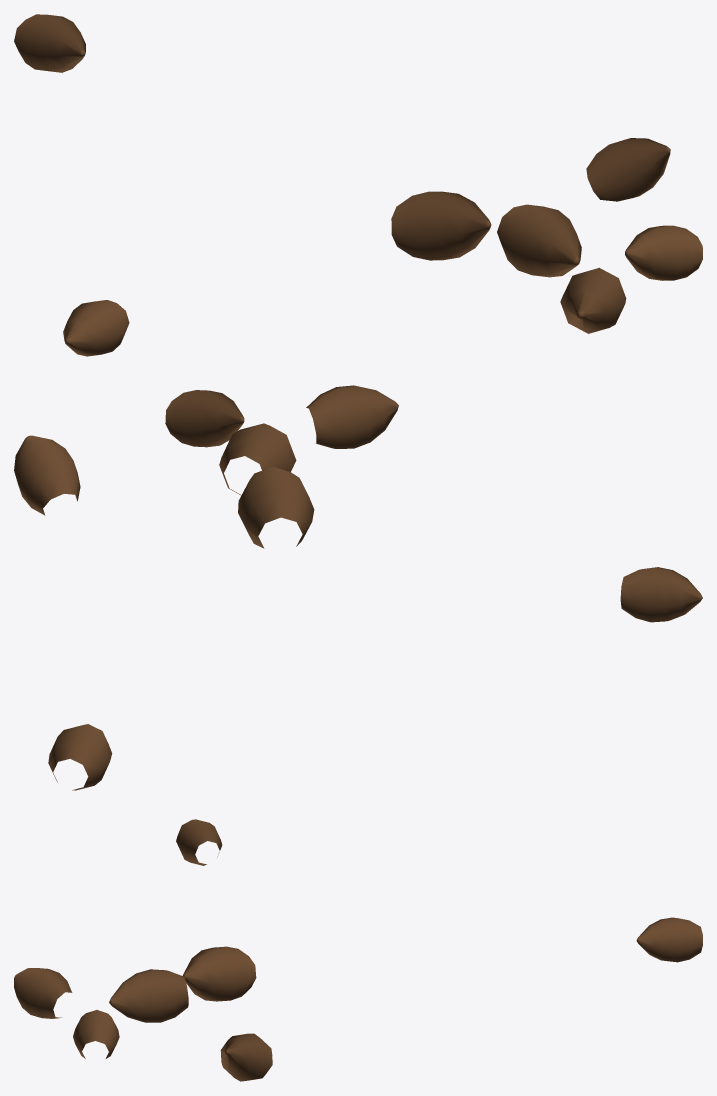
The model's file is pinecones-pine-a.lod1.glb.
3 views of the same model, one above another, from view 1: azimuth 30°, elevation 25°; view 2: azimuth 150°, elevation 25°; view 3: azimuth 270°, elevation 25° (orthographic). The views are drawn at different scales.
Size of the model in its own units: 0.5086 by 0.0545 by 0.6127.
